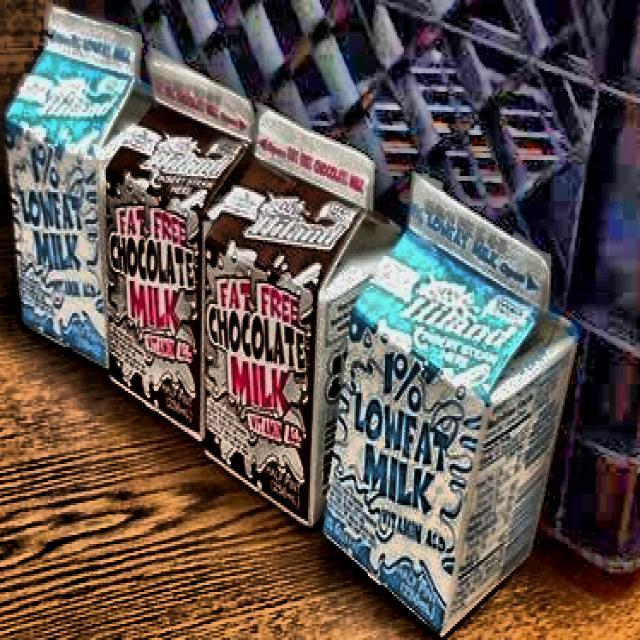cardboard: (0, 0, 580, 638), (320, 171, 578, 638), (197, 105, 399, 530)
